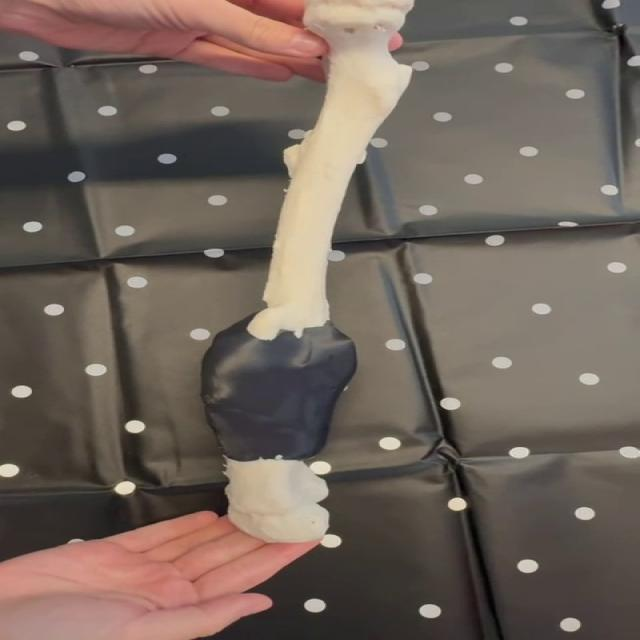bones: (202, 0, 414, 542)
